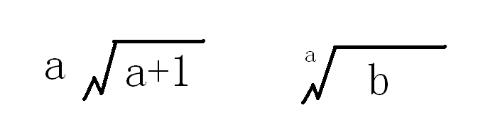sqrt: (295, 39, 454, 109), (78, 37, 209, 99)
